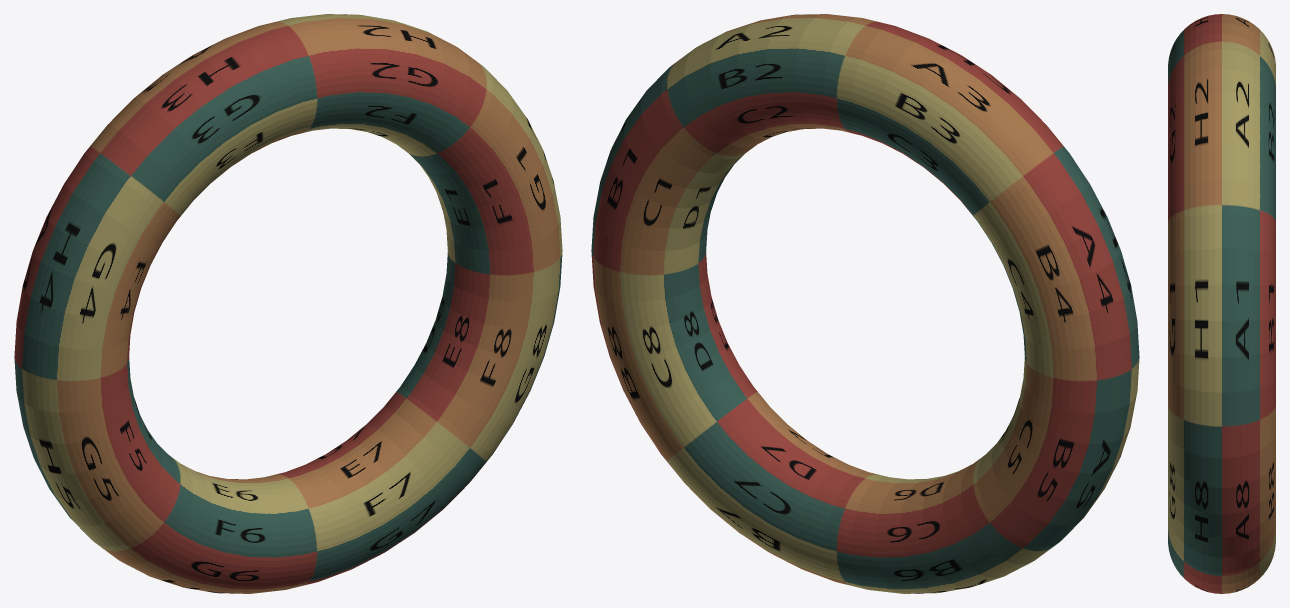
Rendered from texture_torus_R26_r16.glb.
The picture shows the model from 3 angles, left to right: view 1: azimuth 30°, elevation 25°; view 2: azimuth 150°, elevation 25°; view 3: azimuth 270°, elevation 25°; orthographic projection. The views are drawn at different scales.
Parts seen in each view (by area): view 1: world; view 2: world; view 3: world.
Part boxes in pixels (x1,y1,x2,y2): world: (14,14,562,593); world: (591,14,1139,593); world: (1168,14,1275,593).
Bounding box in the file's own units: 33.6 × 33.53 × 6.25.
Materials: 1 (1 with a texture image).
